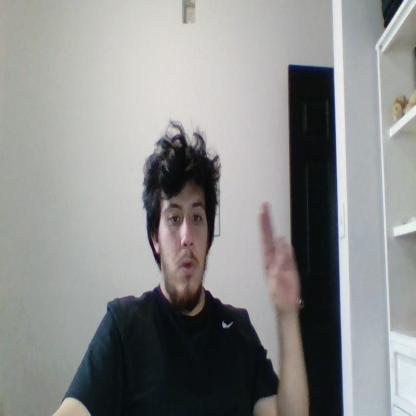U: (259, 200, 299, 312)
